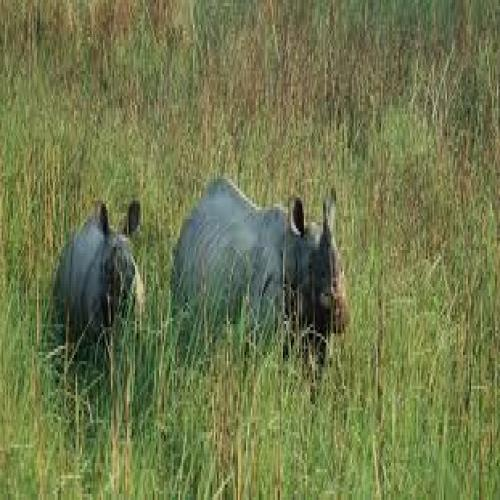rhino-endangered: (172, 176, 352, 398), (51, 201, 143, 387)
